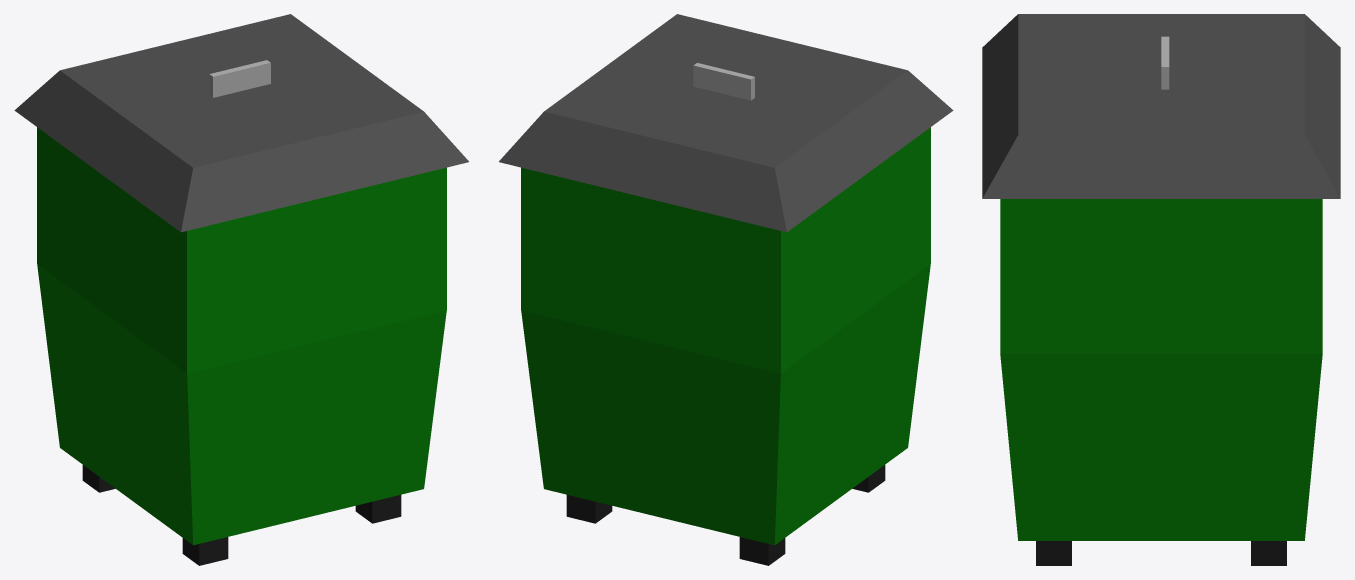
Rendered from recycling_container.obj.
3 views of the same model, side by side, from view 1: azimuth 30°, elevation 25°; view 2: azimuth 150°, elevation 25°; view 3: azimuth 270°, elevation 25° (orthographic). The views are drawn at different scales.
Parts seen in each view (by area): view 1: recycling_container; view 2: recycling_container; view 3: recycling_container.
Part boxes in pixels (left/top/right/bottom): recycling_container: left=14, top=14, right=468, bottom=565; recycling_container: left=499, top=14, right=953, bottom=565; recycling_container: left=982, top=14, right=1340, bottom=565.
Size of the model in its own units: 1 by 1.42 by 1.
